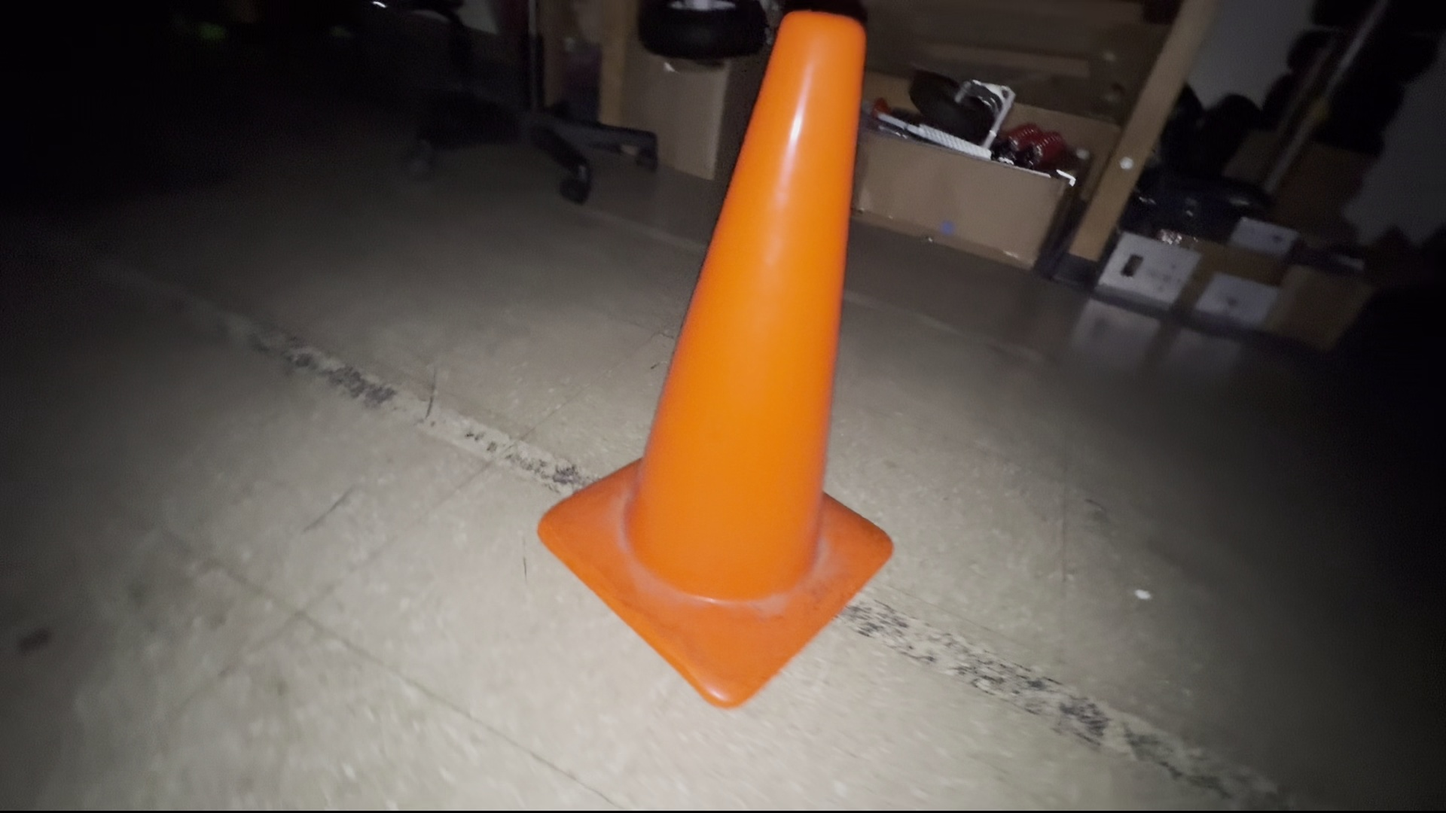traffic_cone: (536, 7, 896, 710)
